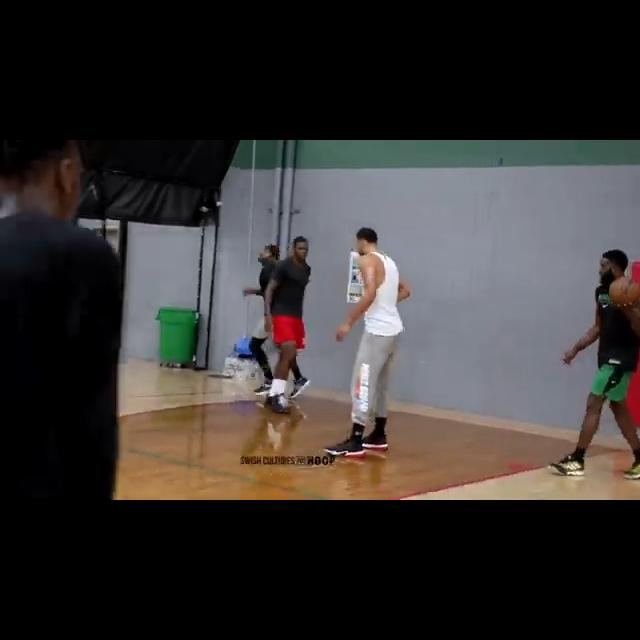basketball: (607, 275, 638, 307)
